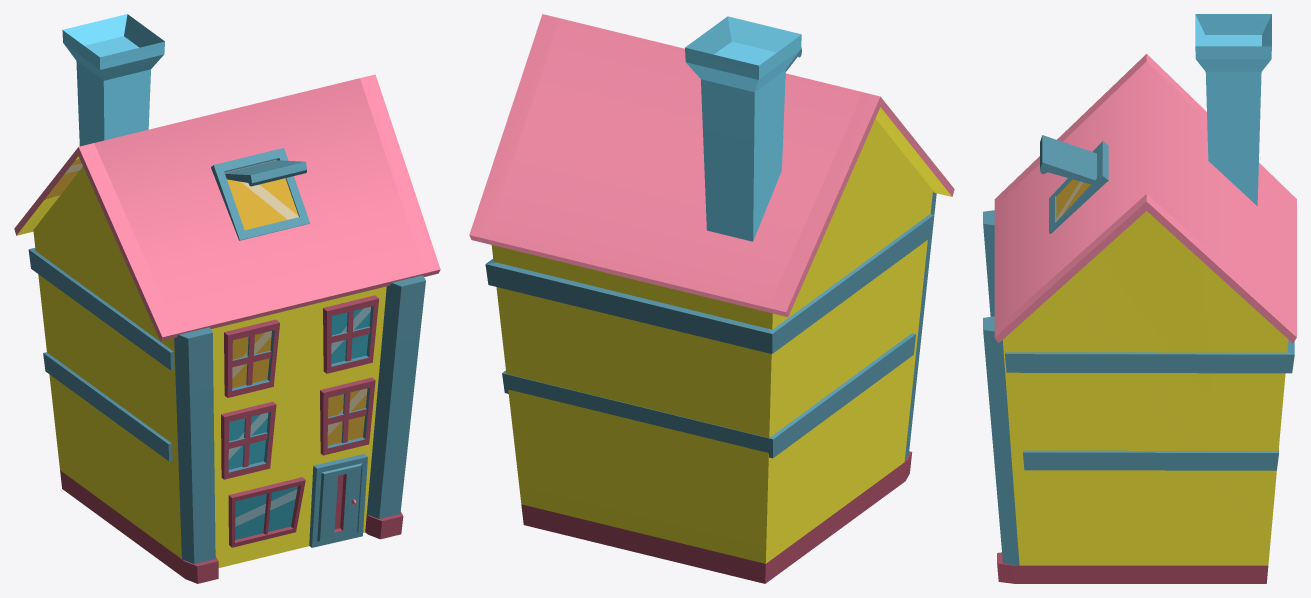
File: House4.FBX
3 renders of one model, left to right at view 1: azimuth 30°, elevation 25°; view 2: azimuth 150°, elevation 25°; view 3: azimuth 270°, elevation 25°, orthographic. The views are drawn at different scales.
Parts seen in each view (by area): view 1: House4; view 2: House4; view 3: House4.
Part boxes in pixels (box(x1,y1,x2,y2)): House4: box(14, 14, 440, 583); House4: box(469, 14, 954, 583); House4: box(983, 14, 1296, 583).
Size of the model in its own units: 286 by 421 by 257.
